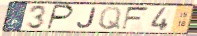3: (26, 4, 49, 30)
4: (149, 6, 170, 32)
F: (120, 6, 151, 32)
J: (76, 7, 98, 30)
P: (45, 4, 75, 31)
Q: (97, 6, 123, 31)
